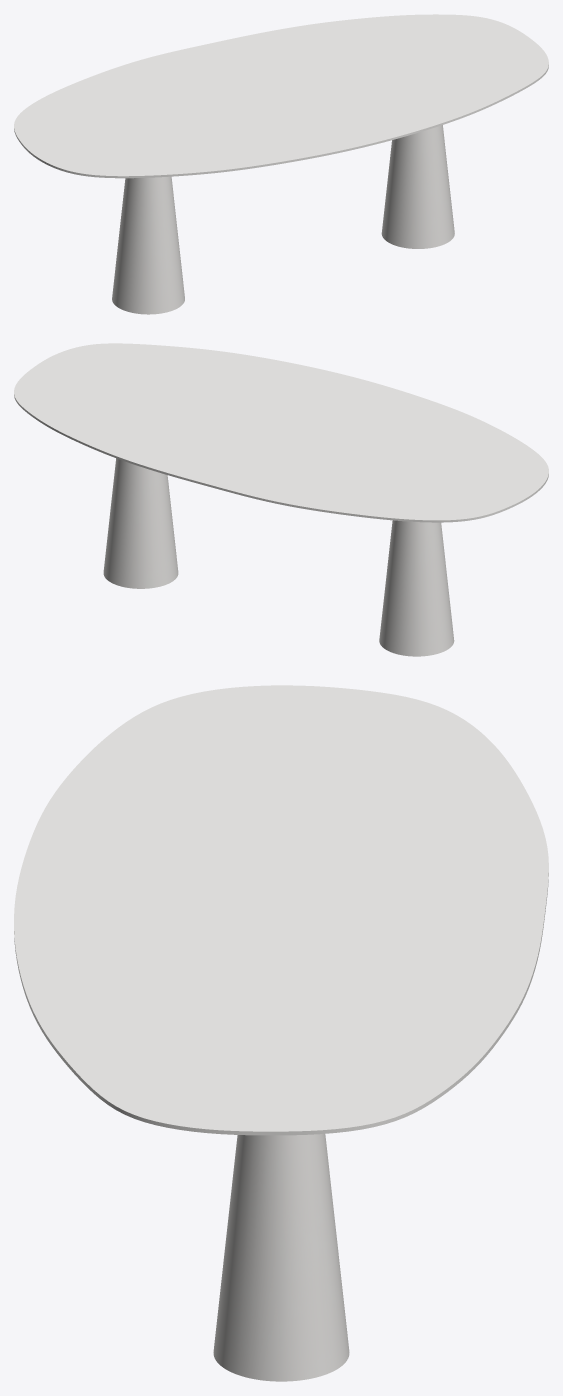
File: purewhite_danish_facet_pebble.glb
The picture shows the model from 3 angles, top to bottom: view 1: azimuth 30°, elevation 25°; view 2: azimuth 150°, elevation 25°; view 3: azimuth 270°, elevation 25°; orthographic projection. The views are drawn at different scales.
Parts seen in each view (by area): view 1: facet_danish, pebble; view 2: facet_danish, pebble; view 3: facet_danish, pebble.
Part boxes in pixels (<box>): facet_danish: <box>14,14,548,178</box>; pebble: <box>112,125,454,314</box>; facet_danish: <box>14,343,548,522</box>; pebble: <box>103,458,454,656</box>; facet_danish: <box>14,685,548,1135</box>; pebble: <box>213,1134,349,1381</box>.
Size of the model in its own units: 7.5 by 2.5 by 3.8.
1 material, 1 textured.
